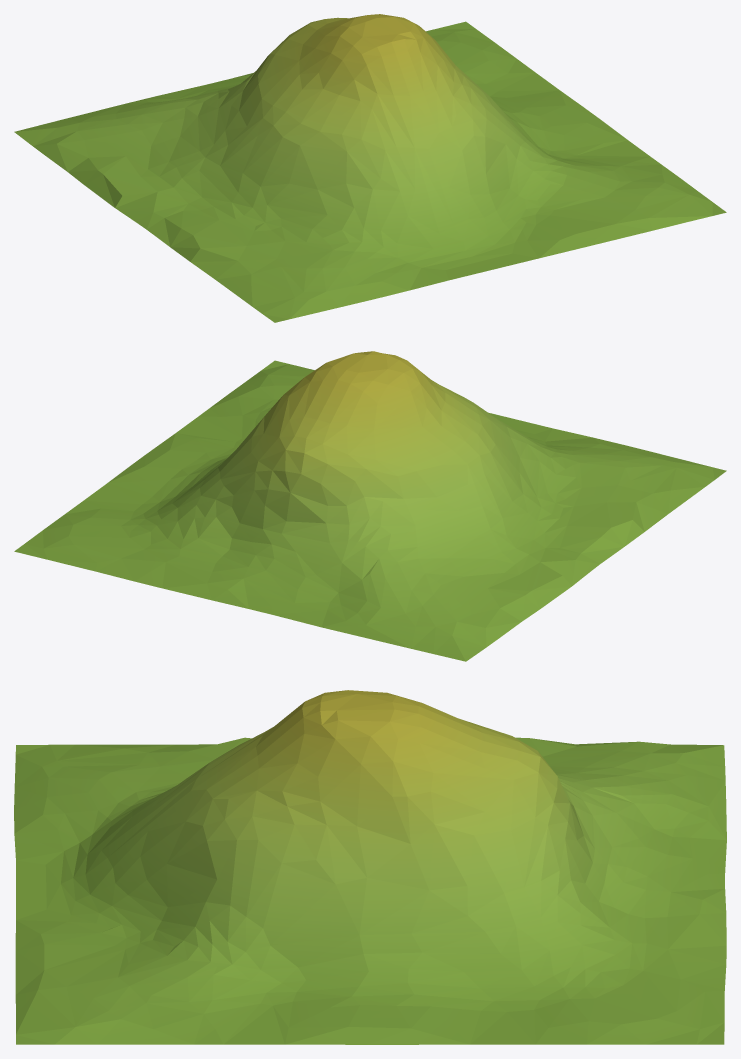
3 renders of one model, top to bottom at view 1: azimuth 30°, elevation 25°; view 2: azimuth 150°, elevation 25°; view 3: azimuth 270°, elevation 25°, orthographic. The views are drawn at different scales.
Parts seen in each view (by area): view 1: Plane_07; view 2: Plane_07; view 3: Plane_07.
Boxes of the visible parts, bbox=[...] form: Plane_07: bbox=[14, 14, 726, 322]; Plane_07: bbox=[14, 351, 726, 661]; Plane_07: bbox=[14, 690, 726, 1044].
Size of the model in its own units: 101 by 30.43 by 101.
